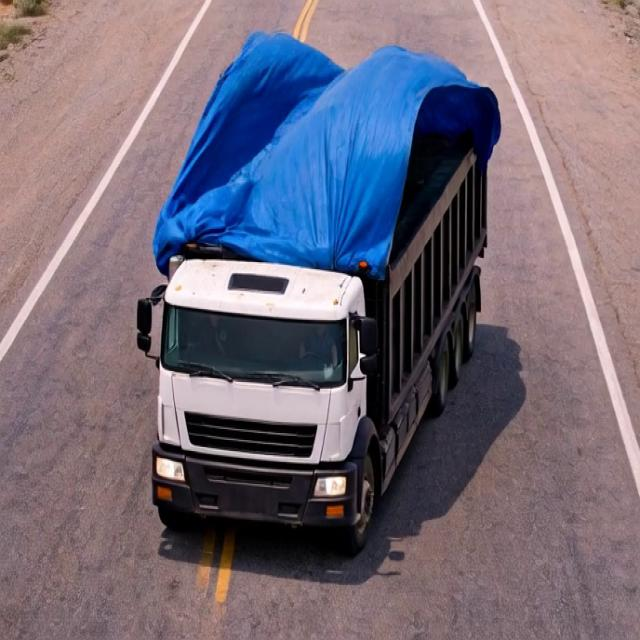trailer: (146, 30, 504, 264)
truck: (130, 14, 539, 562)
